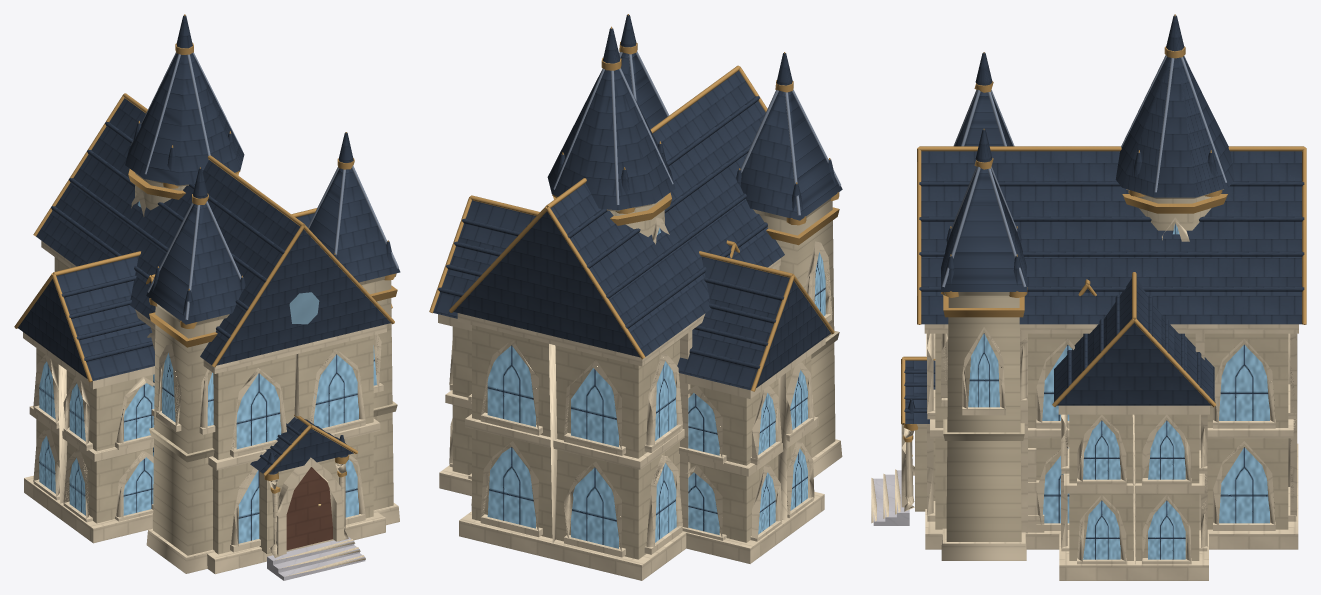
Rendered from angelic-cathedral-distant.glb.
The picture shows the model from 3 angles, left to right: view 1: azimuth 30°, elevation 25°; view 2: azimuth 150°, elevation 25°; view 3: azimuth 270°, elevation 25°; orthographic projection. The views are drawn at different scales.
Bounding box in the file's own units: 6.75 × 9.65 × 7.76.
10 materials, 10 textured.
